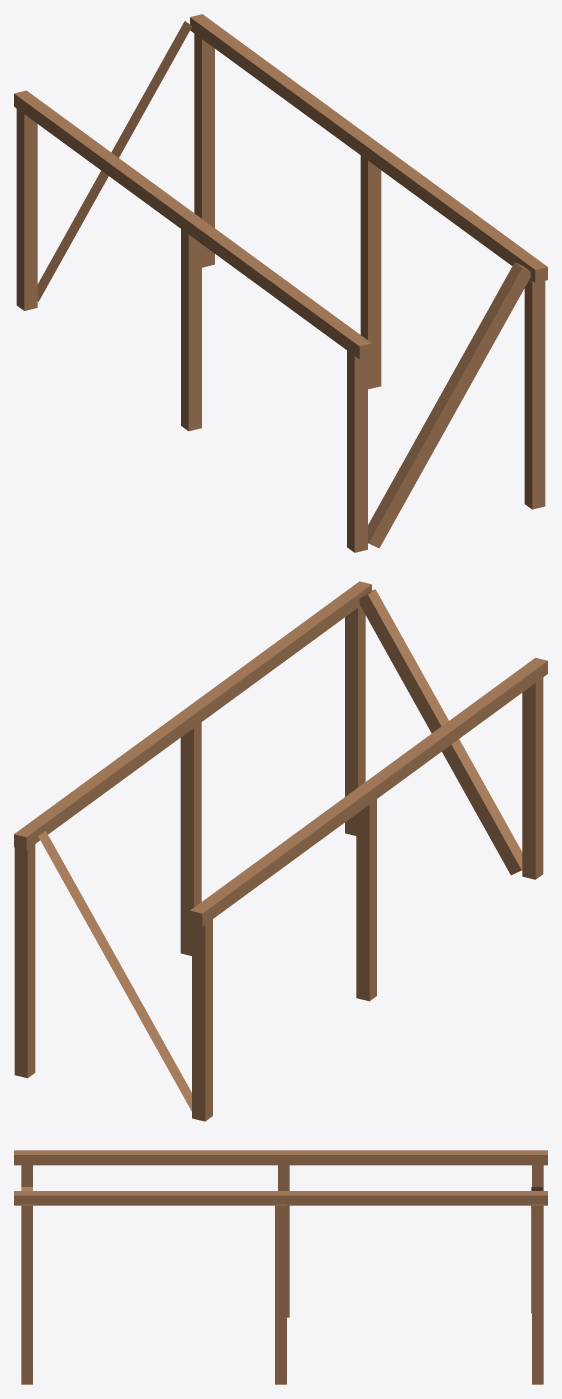
The model's file is sdanie.fbx.
3 renders of one model, top to bottom at view 1: azimuth 30°, elevation 25°; view 2: azimuth 150°, elevation 25°; view 3: azimuth 270°, elevation 25°, orthographic. The views are drawn at different scales.
Visible parts, largest first — view 1: Cube.005; view 2: Cube.005; view 3: Cube.005.
Part boxes in pixels (x1,y1,x2,y2): Cube.005: [14, 14, 547, 552]; Cube.005: [14, 581, 547, 1121]; Cube.005: [14, 1150, 547, 1384].
Bounding box in the file's own units: 635 × 782 × 1993.
